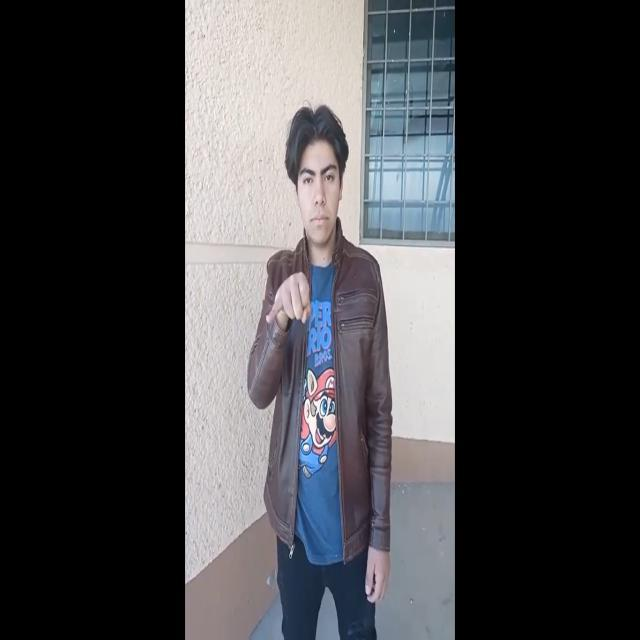J: (252, 262, 323, 341)
